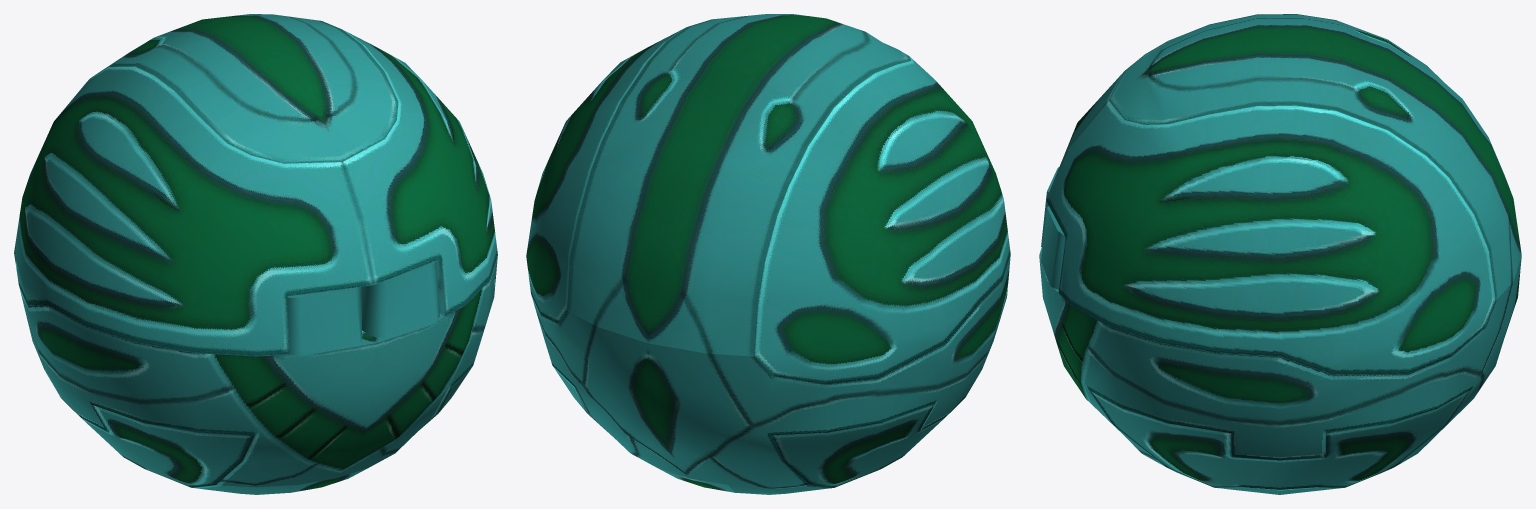
File: ball.glb
The picture shows the model from 3 angles, left to right: view 1: azimuth 30°, elevation 25°; view 2: azimuth 150°, elevation 25°; view 3: azimuth 270°, elevation 25°; orthographic projection.
Bounding box in the file's own units: 1.76 × 1.75 × 1.77.
Materials: 1 (1 with a texture image).
